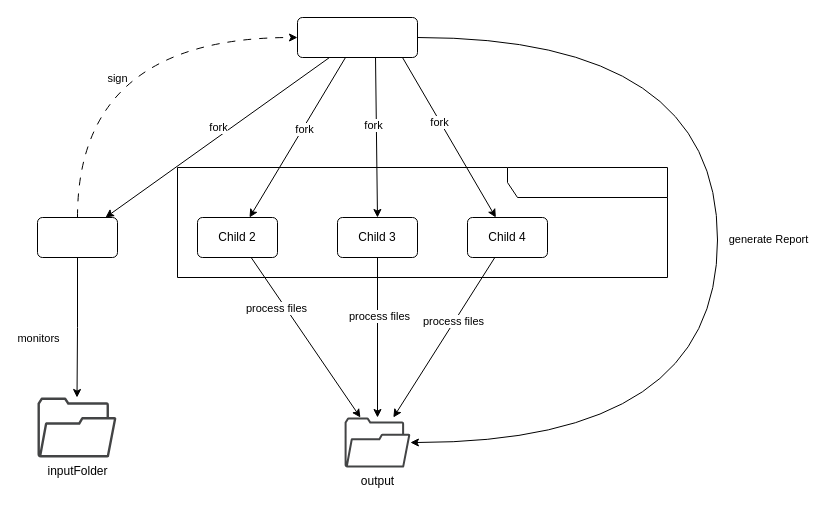
The diagram is 825 pixels wide and 506 high, and some of its shapes have lost their labels. Each missing label, with the box of its shape:
Child 1: (36, 216, 118, 258)
Parent Process: (296, 16, 418, 58)
Worker_children: (176, 166, 668, 278)
